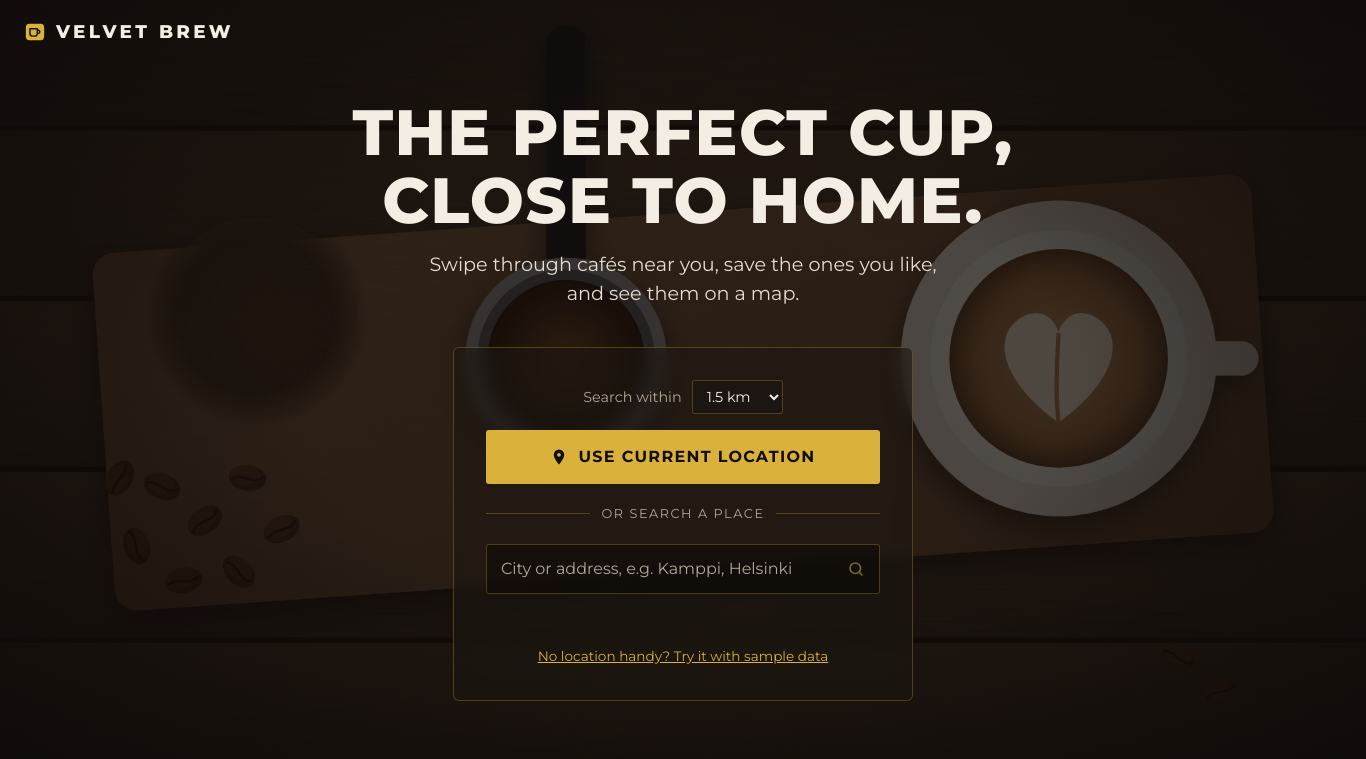
Scenario: App › shows the nearest café first in the swipe deck
The image size is (1366, 759).
Step 1. Click the button "Use current location" → (683,457), box [486, 430, 880, 484]
(page scrolled)
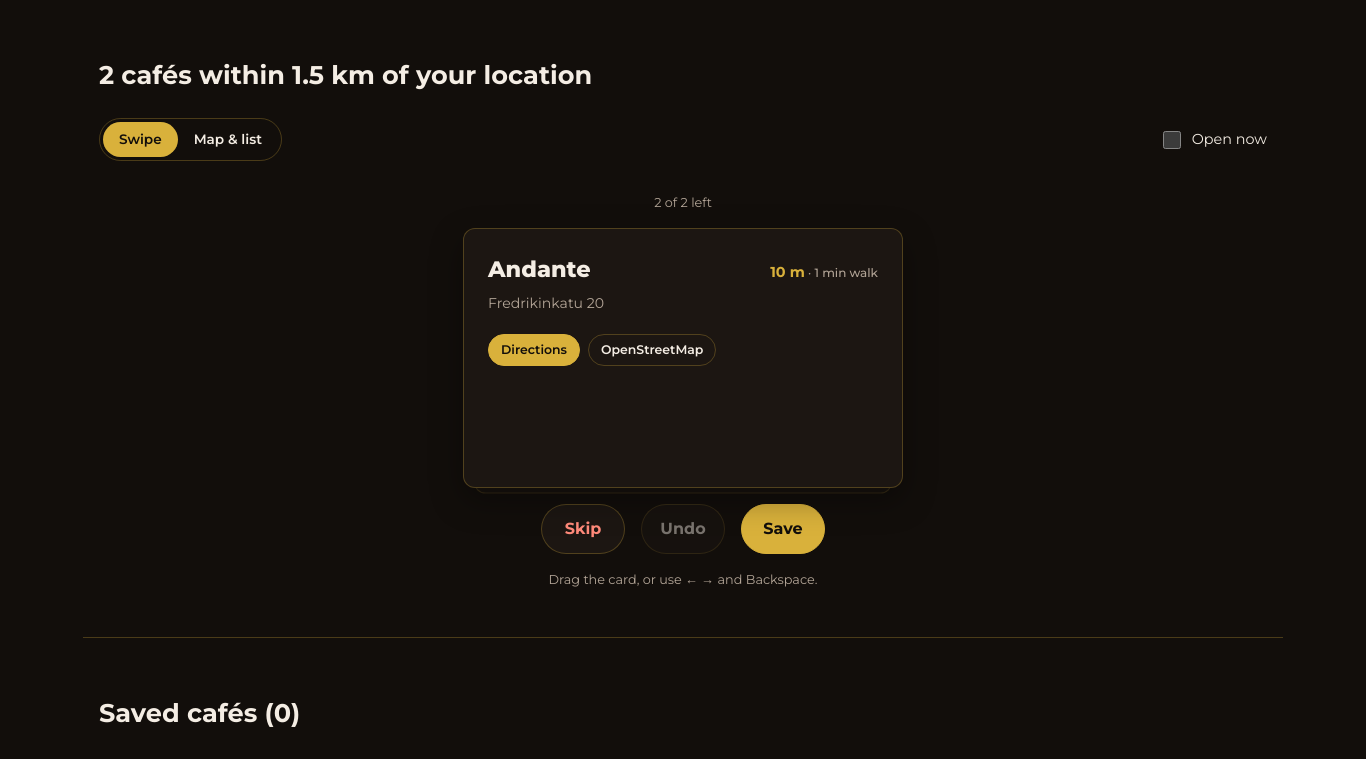
expect the heading "2 cafés within 1.5 km of your location" is shown: met, box [99, 59, 592, 90]
expect the text "2 of 2 left" is shown: met, box [654, 193, 712, 212]
